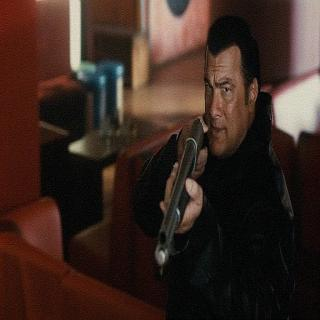gun: (156, 112, 212, 270)
